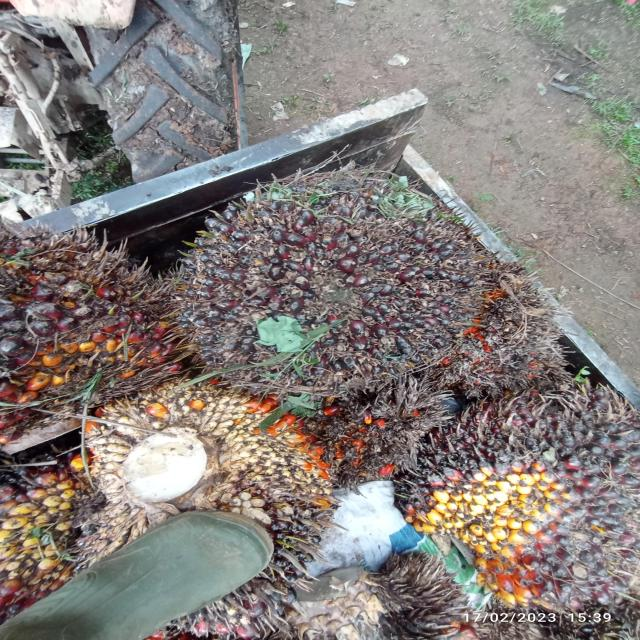fraksi 00: (396, 366, 640, 620)
fraksi 1: (138, 149, 516, 442)
